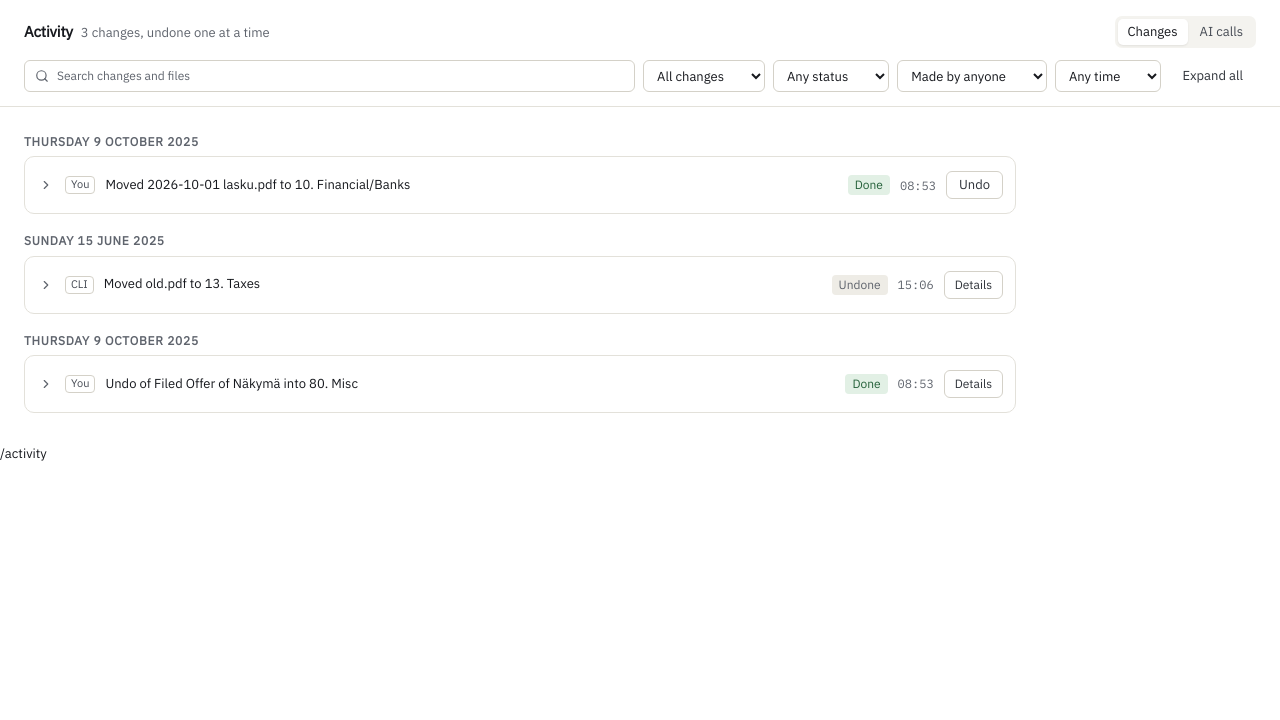
it: Activity › a refused undo preview says why and disables Undo, also for ⌘Enter
Click the button "Undo".
click(974, 185)  # box left=946, top=171, right=1003, bottom=199
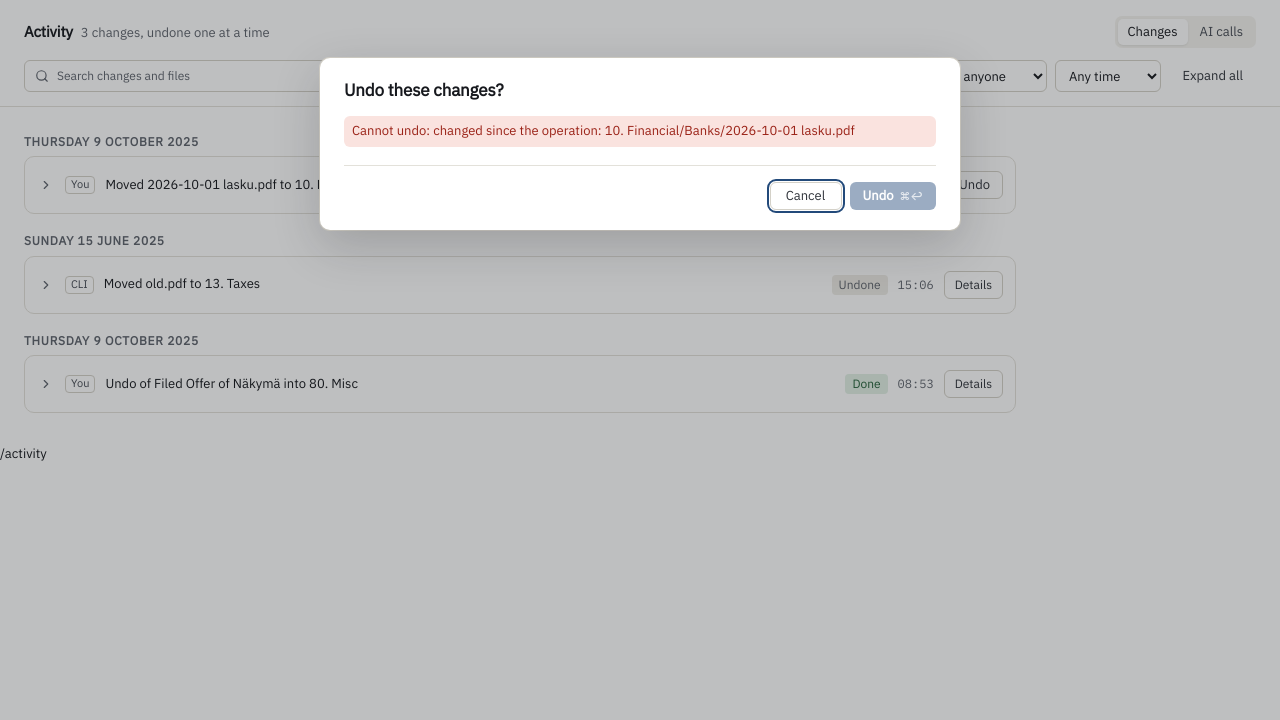
Expected: the button "Undo⌘↩" is disabled, left=850, top=182, right=936, bottom=210
Type keys "{Meta>}{Enter}{/Meta}"
Click the button "Undo⌘↩".
click(893, 196)  # box left=850, top=182, right=936, bottom=210
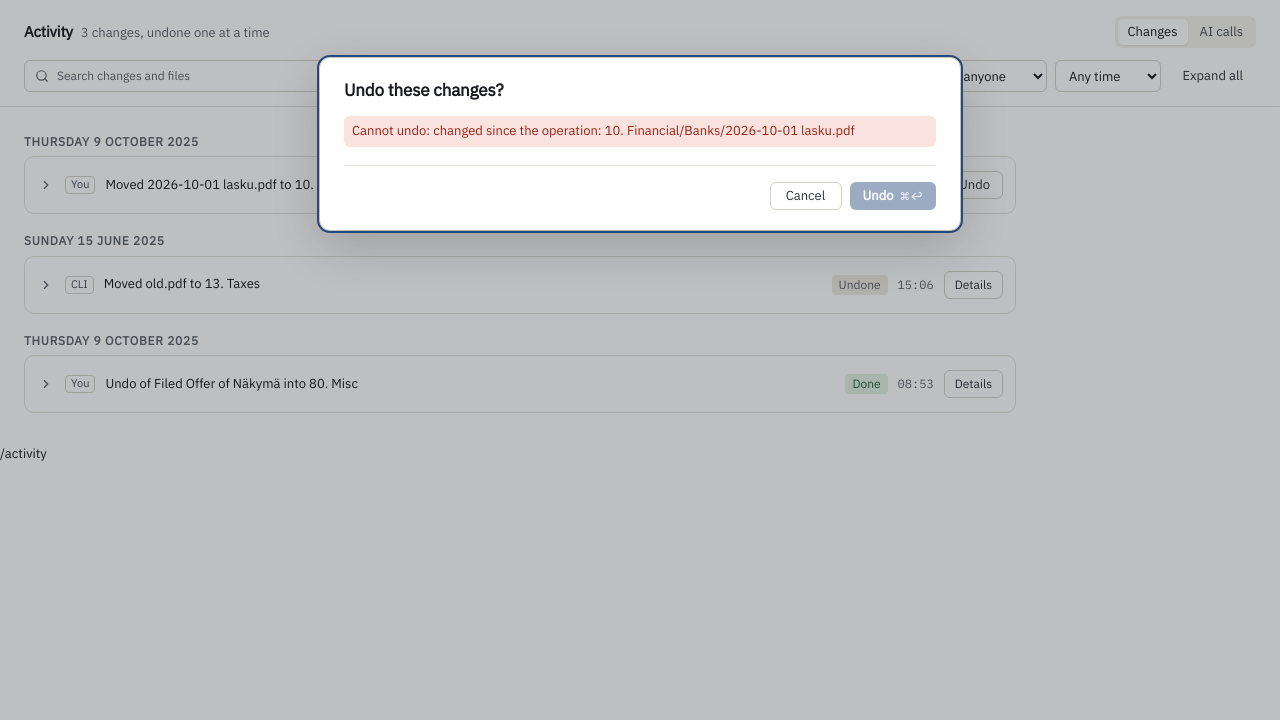
Click the button "Cancel".
click(806, 196)  # box left=770, top=182, right=842, bottom=210
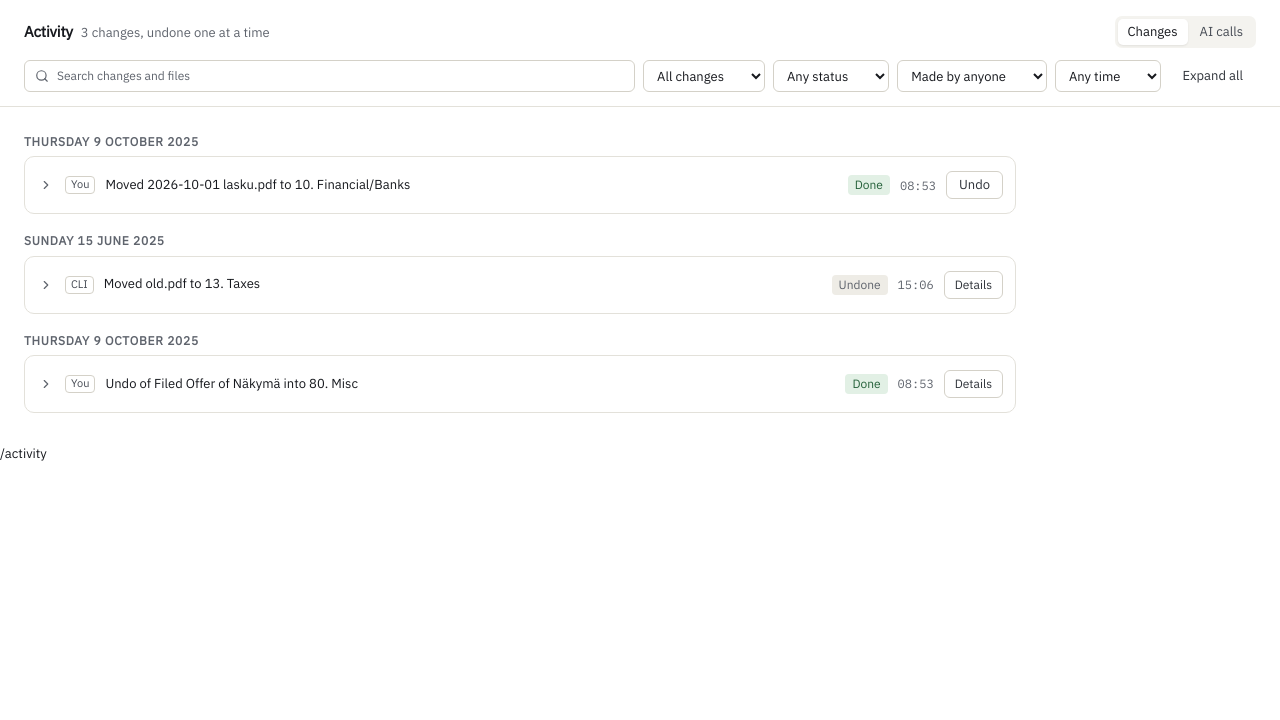
Expected: the dialog is gone
